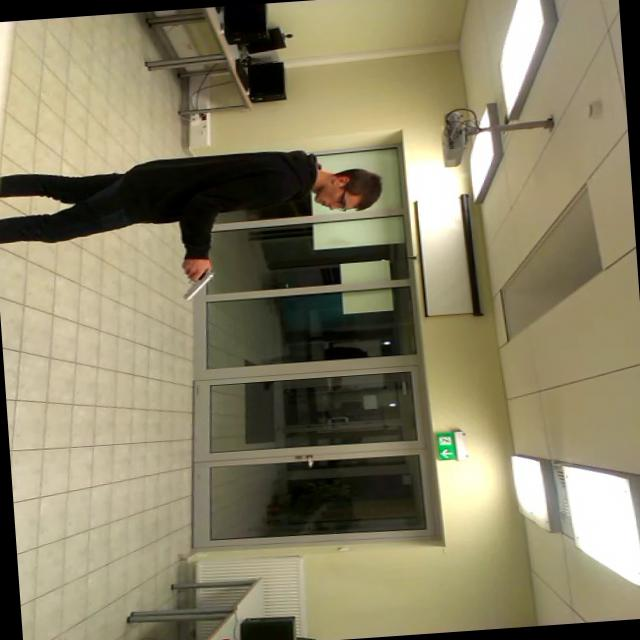handgun: (168, 263, 225, 305)
